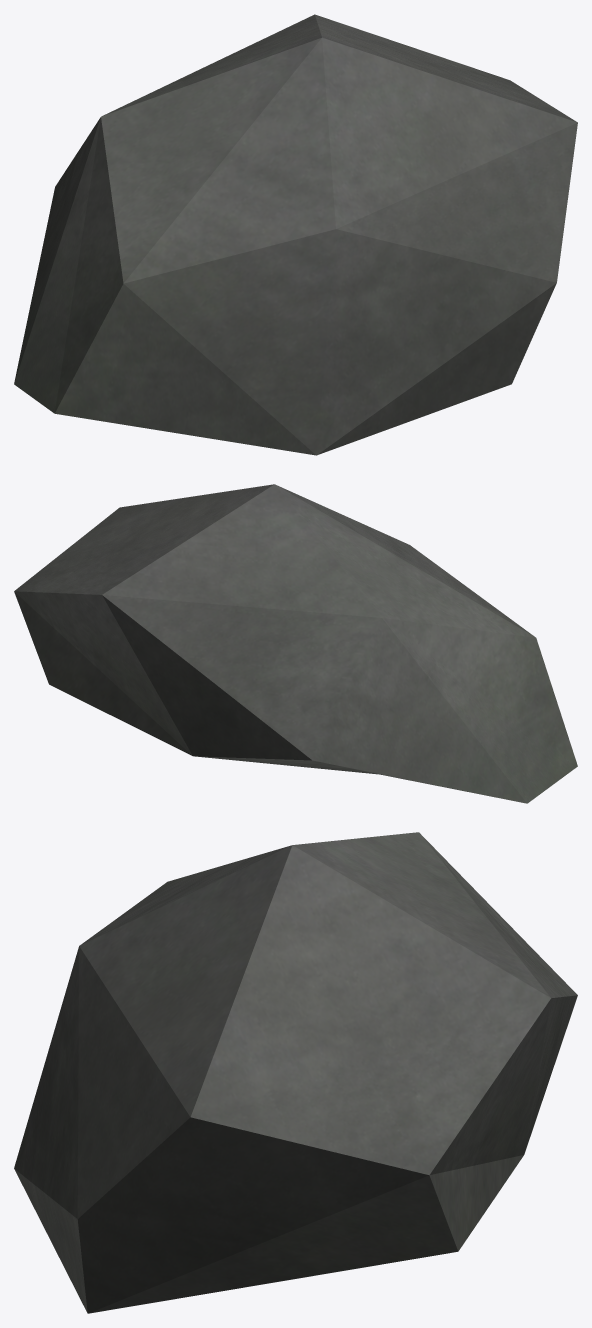
The model's file is Rock_Flat_01.FBX.
3 renders of one model, top to bottom at view 1: azimuth 30°, elevation 25°; view 2: azimuth 150°, elevation 25°; view 3: azimuth 270°, elevation 25°, orthographic. The views are drawn at different scales.
Visible parts, largest first — view 1: Rock_Flat_01; view 2: Rock_Flat_01; view 3: Rock_Flat_01.
Boxes of the visible parts, <box> form: Rock_Flat_01: <box>14,14,577,455</box>; Rock_Flat_01: <box>14,484,577,803</box>; Rock_Flat_01: <box>14,832,577,1313</box>.
Bounding box in the file's own units: 112 × 78.23 × 61.32.
